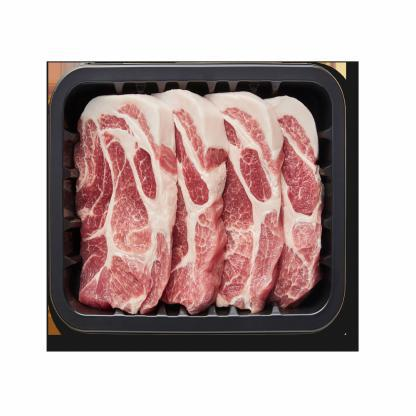pork: (73, 88, 327, 309)
